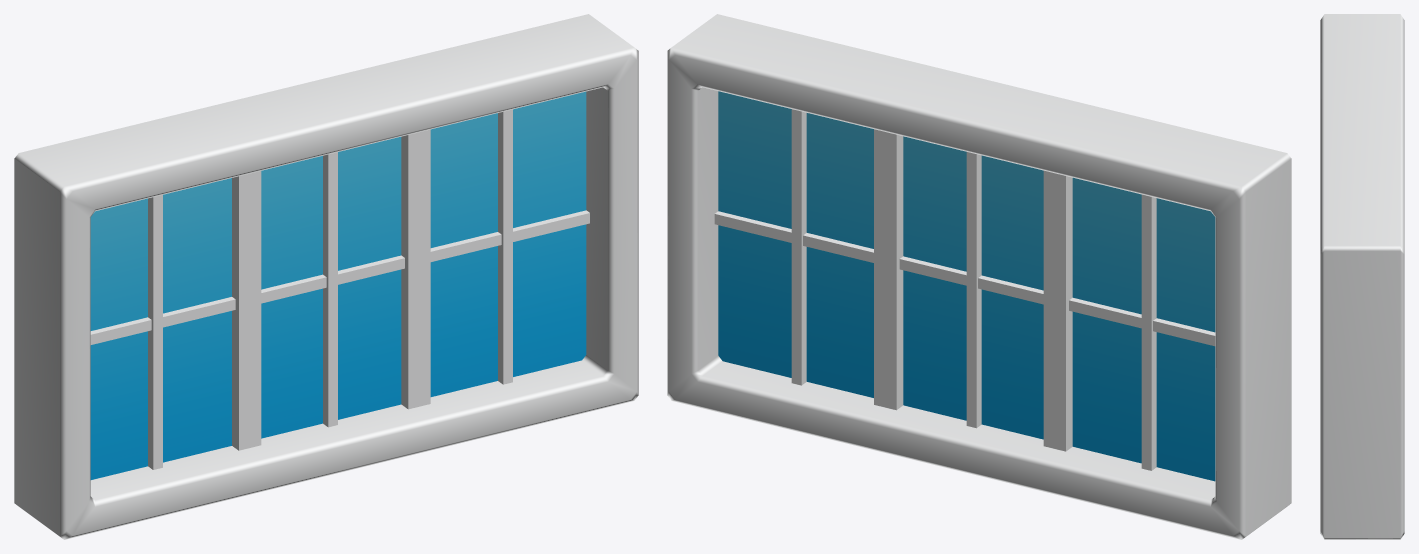
The model's file is Window_White_01.glb.
3 views of the same model, side by side, from view 1: azimuth 30°, elevation 25°; view 2: azimuth 150°, elevation 25°; view 3: azimuth 270°, elevation 25° (orthographic). The views are drawn at different scales.
Parts seen in each view (by area): view 1: Window_White_01; view 2: Window_White_01; view 3: Window_White_01.
Boxes of the visible parts, x1,y1,x2,y2 form: Window_White_01: (14, 14, 638, 539); Window_White_01: (667, 14, 1291, 539); Window_White_01: (1320, 14, 1404, 539).
Bounding box in the file's own units: 2.64 × 1.54 × 0.4.
Materials: 2 (2 with a texture image).
